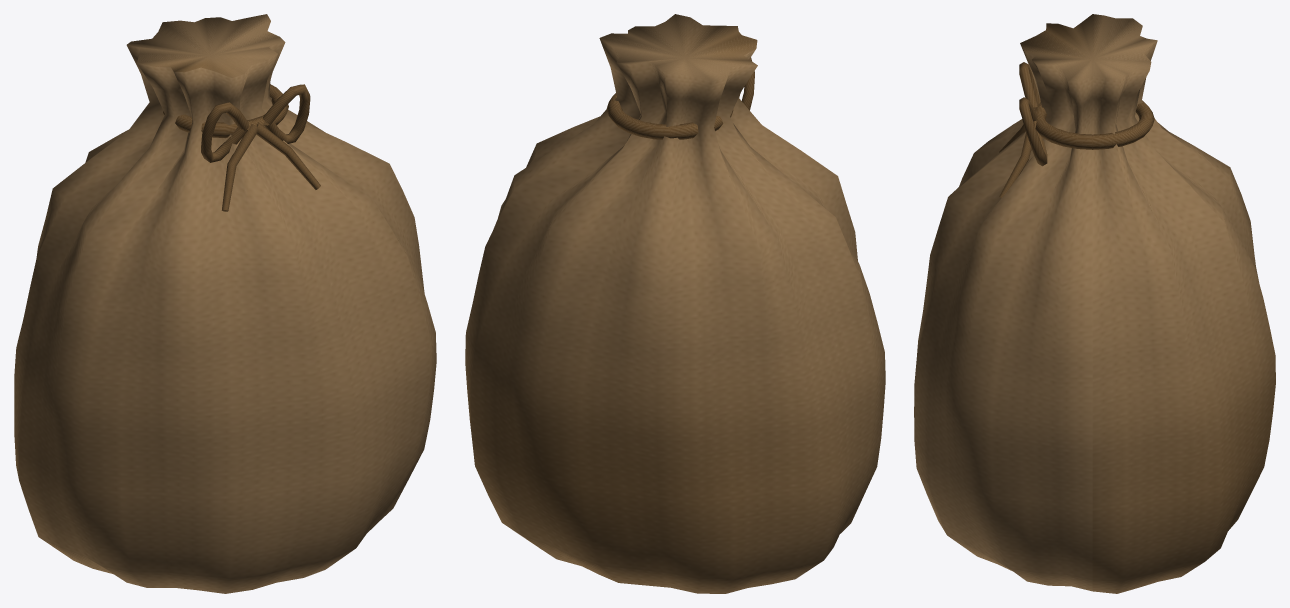
File: sack_tied.fbx
3 renders of one model, left to right at view 1: azimuth 30°, elevation 25°; view 2: azimuth 150°, elevation 25°; view 3: azimuth 270°, elevation 25°, orthographic. The views are drawn at different scales.
Visible parts, largest first — view 1: sack_tied; view 2: sack_tied; view 3: sack_tied.
Boxes of the visible parts, x1=… form: sack_tied: x1=14, y1=14, x2=436, y2=593; sack_tied: x1=465, y1=14, x2=885, y2=593; sack_tied: x1=914, y1=14, x2=1275, y2=593.
Size of what is drawn, in the model's own units: 0.6053 by 0.765 by 0.5179.
Materials: 1 (1 with a texture image).
